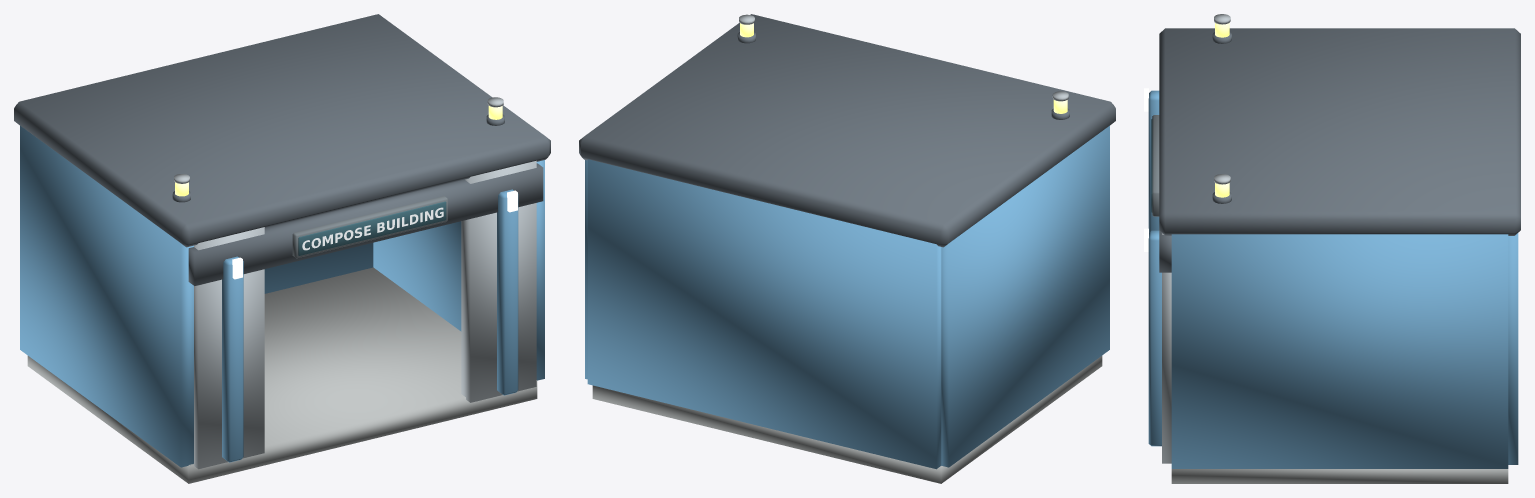
Rendered from compose_building_standard.glb.
3 views of the same model, side by side, from view 1: azimuth 30°, elevation 25°; view 2: azimuth 150°, elevation 25°; view 3: azimuth 270°, elevation 25° (orthographic). The views are drawn at different scales.
Parts seen in each view (by area): view 1: Roof_dark_legacy_2, Wall_blue_legacy_1, Foundation_concrete_legacy_0, FrontFrame_steel_legacy_3, Header_dark_legacy_4, PortalTrim_blue_legacy_13, SignPlate_glass, ScreenMount_frame, TypeLabel_white; view 2: Wall_blue_legacy_1, Roof_dark_legacy_2, Foundation_concrete_legacy_0; view 3: Wall_blue_legacy_1, Roof_dark_legacy_2, Foundation_concrete_legacy_0, PortalTrim_blue_legacy_13, FrontFrame_steel_legacy_3, ScreenMount_frame, Header_dark_legacy_4, StatusLight_warn_legacy_10.
Part boxes in pixels (<box>): Roof_dark_legacy_2: <box>14,14,550,247</box>; Wall_blue_legacy_1: <box>20,125,544,467</box>; Foundation_concrete_legacy_0: <box>27,267,537,483</box>; FrontFrame_steel_legacy_3: <box>194,160,536,469</box>; Header_dark_legacy_4: <box>188,163,543,285</box>; PortalTrim_blue_legacy_13: <box>222,189,518,462</box>; SignPlate_glass: <box>298,201,446,255</box>; ScreenMount_frame: <box>292,196,447,258</box>; TypeLabel_white: <box>302,207,443,250</box>; Wall_blue_legacy_1: <box>585,125,1109,469</box>; Roof_dark_legacy_2: <box>579,14,1115,247</box>; Foundation_concrete_legacy_0: <box>592,356,1102,483</box>; Wall_blue_legacy_1: <box>1171,233,1518,468</box>; Roof_dark_legacy_2: <box>1159,28,1520,235</box>; Foundation_concrete_legacy_0: <box>1171,469,1508,483</box>; PortalTrim_blue_legacy_13: <box>1148,90,1161,446</box>; FrontFrame_steel_legacy_3: <box>1162,233,1171,463</box>; ScreenMount_frame: <box>1152,115,1159,216</box>; Header_dark_legacy_4: <box>1159,230,1171,272</box>; StatusLight_warn_legacy_10: <box>1215,23,1229,197</box>.
Bounding box in the file's own units: 5.3 × 3.9 × 4.48.
